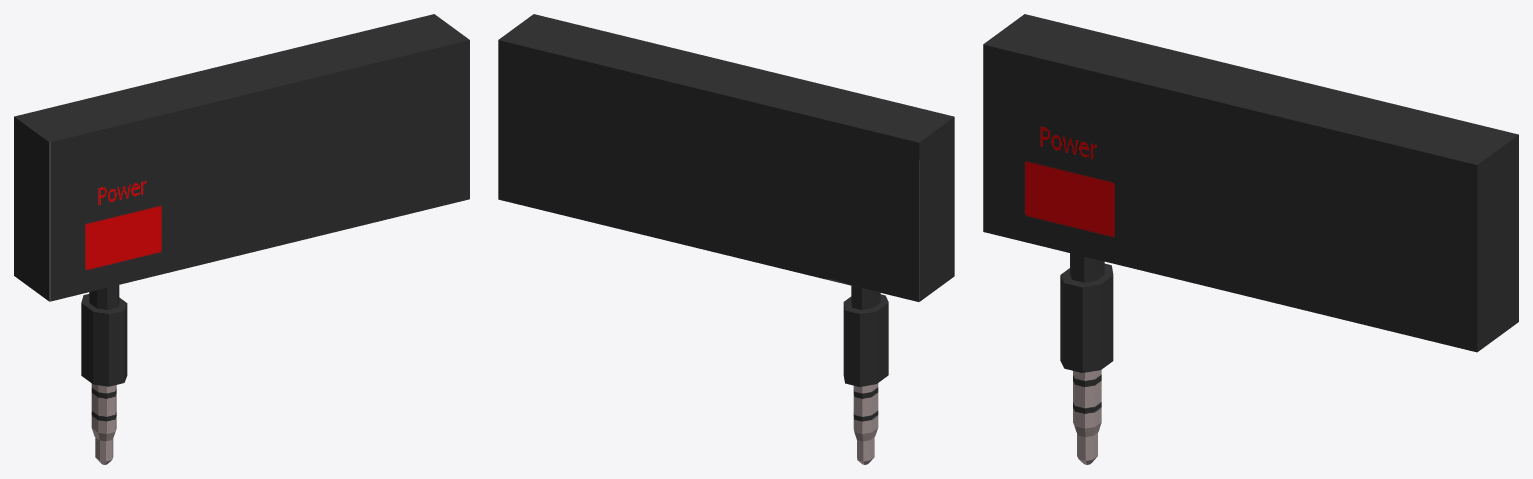
File: detector.fbx
3 views of the same model, side by side, from view 1: azimuth 30°, elevation 25°; view 2: azimuth 150°, elevation 25°; view 3: azimuth 330°, elevation 25° (orthographic). The views are drawn at different scales.
Parts seen in each view (by area): view 1: Cube; view 2: Cube; view 3: Cube.
Part boxes in pixels (bbox=[...]): Cube: bbox=[14, 14, 469, 464]; Cube: bbox=[498, 14, 954, 464]; Cube: bbox=[983, 14, 1518, 464].
Bounding box in the file's own units: 552 × 441 × 80.72.
